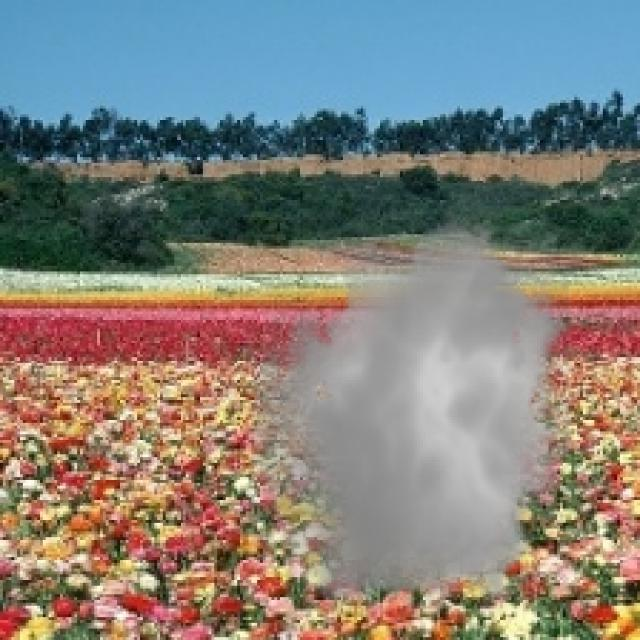smoke: (240, 203, 586, 623)
